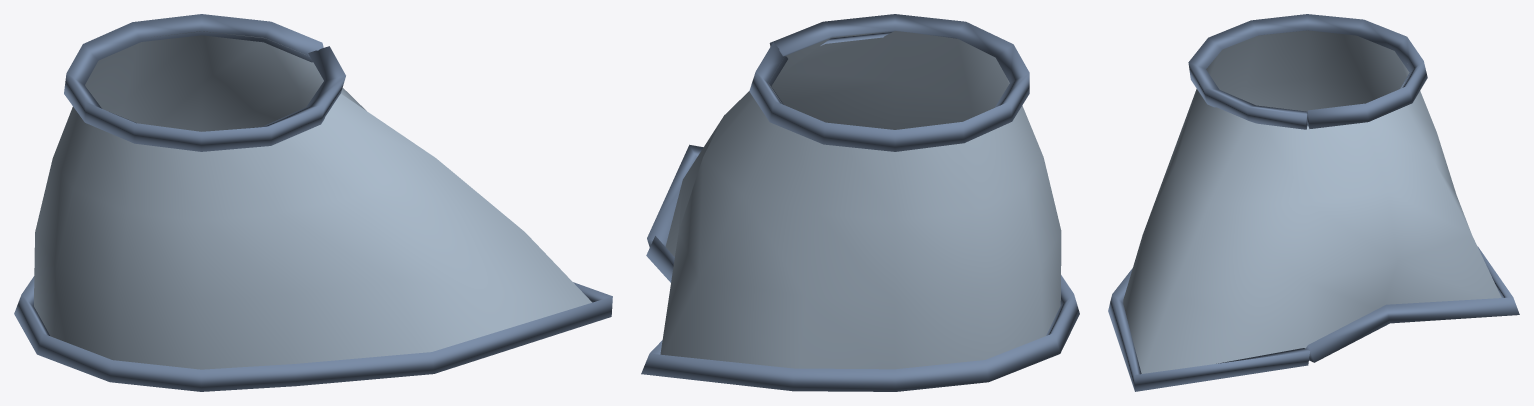
Rendered from titanium_armor_pauldron.L.glb.
3 renders of one model, left to right at view 1: azimuth 30°, elevation 25°; view 2: azimuth 150°, elevation 25°; view 3: azimuth 270°, elevation 25°, orthographic. The views are drawn at different scales.
Visible parts, largest first — view 1: titanium_armor_pauldron.L; view 2: titanium_armor_pauldron.L; view 3: titanium_armor_pauldron.L.
Part boxes in pixels (x1,y1,x2,y2): titanium_armor_pauldron.L: (14, 14, 612, 391); titanium_armor_pauldron.L: (641, 14, 1079, 391); titanium_armor_pauldron.L: (1108, 14, 1519, 391).
Size of the model in its own units: 0.3323 by 0.1646 by 0.2981.
